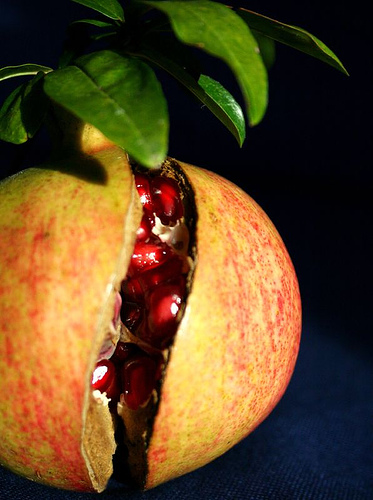pomogranate: (1, 113, 307, 498)
